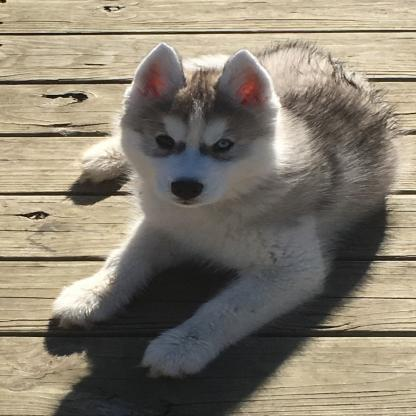husky: (53, 39, 394, 378)
